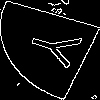Y: (24, 25, 94, 73)
